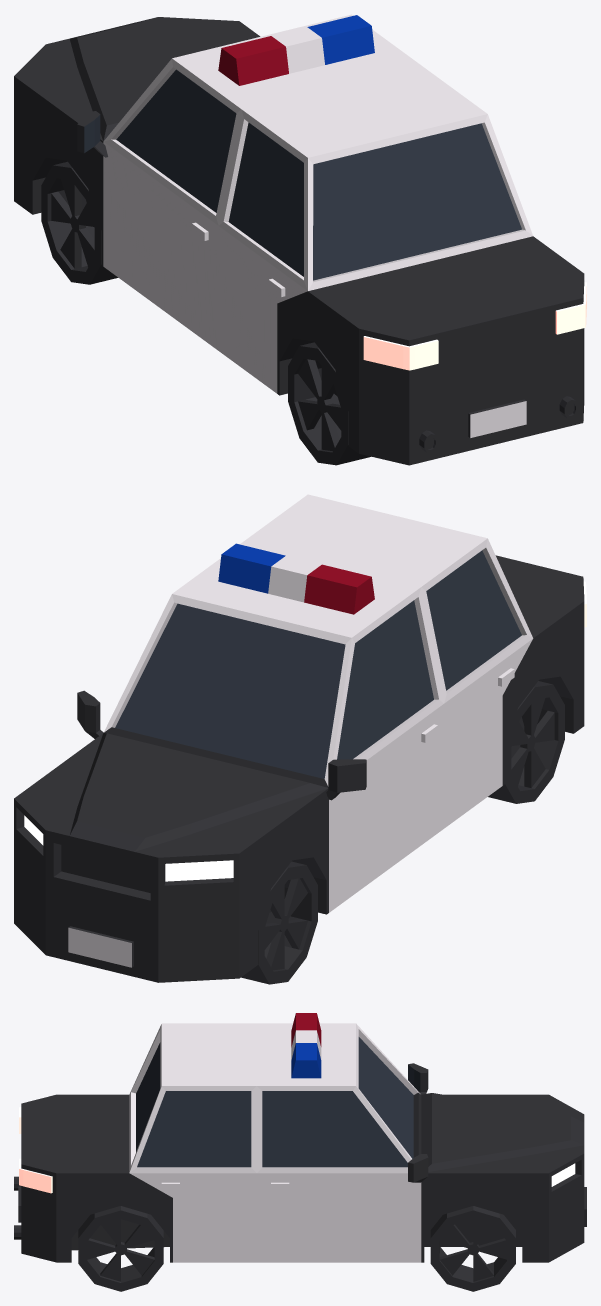
Rendered from rv_police.glb.
The picture shows the model from 3 angles, top to bottom: view 1: azimuth 30°, elevation 25°; view 2: azimuth 150°, elevation 25°; view 3: azimuth 270°, elevation 25°; orthographic projection. The views are drawn at different scales.
Visible parts, largest first — view 1: Body, WheelRL, WheelFL; view 2: Body, WheelFL, WheelRL; view 3: Body, WheelFR, WheelRR.
Boxes of the visible parts, left/top/right/bottom form: Body: left=14, top=14, right=586, bottom=465; WheelRL: left=288, top=342, right=370, bottom=465; WheelFL: left=41, top=161, right=118, bottom=284; Body: left=14, top=494, right=586, bottom=982; WheelFL: left=241, top=861, right=317, bottom=984; WheelRL: left=488, top=681, right=564, bottom=803; Body: left=14, top=1013, right=586, bottom=1262; WheelFR: left=430, top=1206, right=515, bottom=1291; WheelRR: left=78, top=1206, right=163, bottom=1291.
Bounding box in the file's own units: 1.95 × 1.97 × 4.7.
